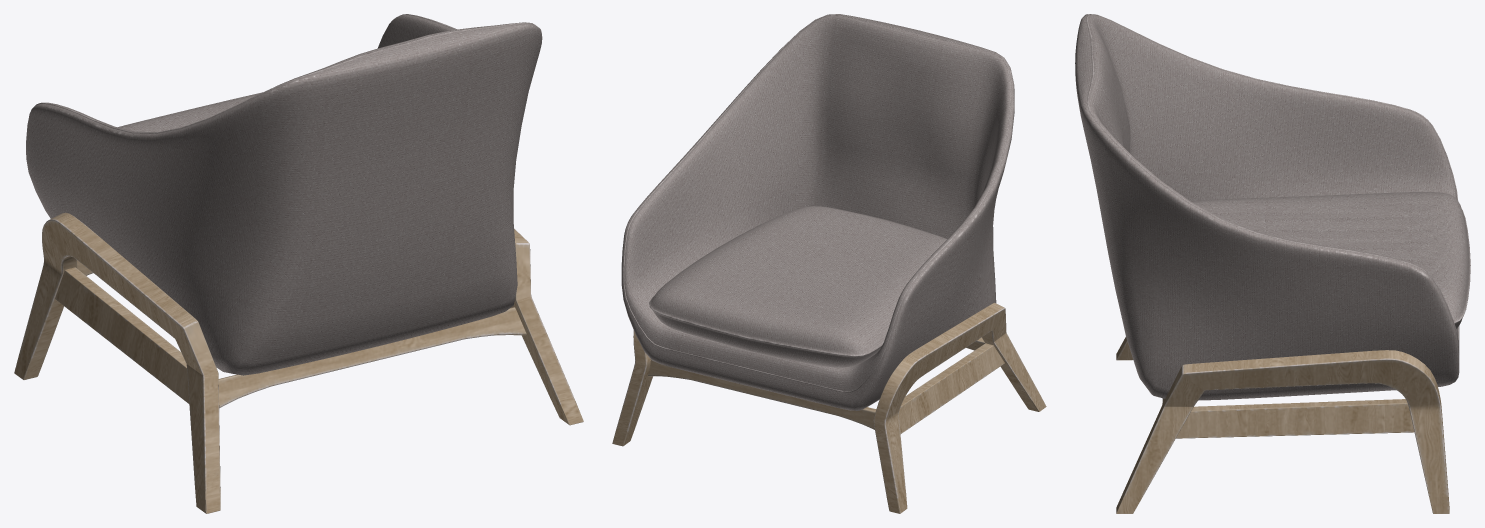
3 views of the same model, side by side, from view 1: azimuth 30°, elevation 25°; view 2: azimuth 150°, elevation 25°; view 3: azimuth 270°, elevation 25° (orthographic). The views are drawn at different scales.
Visible parts, largest first — view 1: Fauteuil_armchair_0; view 2: Fauteuil_armchair_0; view 3: Fauteuil_armchair_0.
Part boxes in pixels (x1,y1,x2,y2): Fauteuil_armchair_0: (14,14,583,513); Fauteuil_armchair_0: (612,14,1046,513); Fauteuil_armchair_0: (1075,14,1470,513).
Bounding box in the file's own units: 70.26 × 77.45 × 73.45.
1 material, 1 textured.
